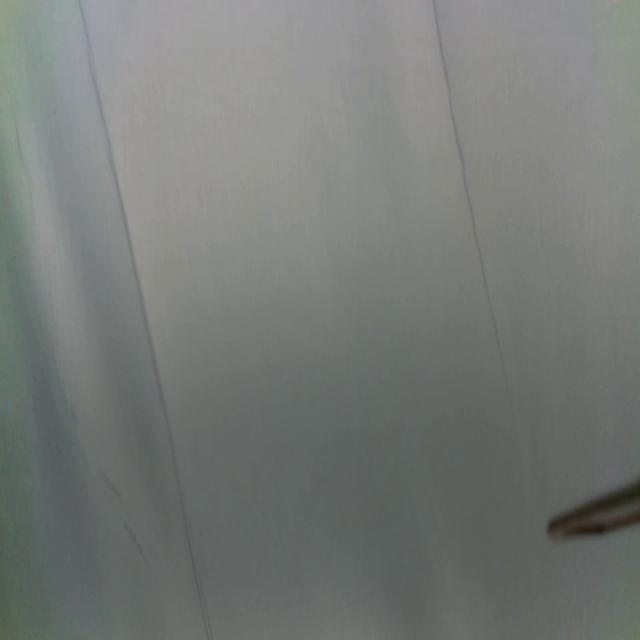crease: (79, 0, 210, 638), (432, 0, 510, 399)
